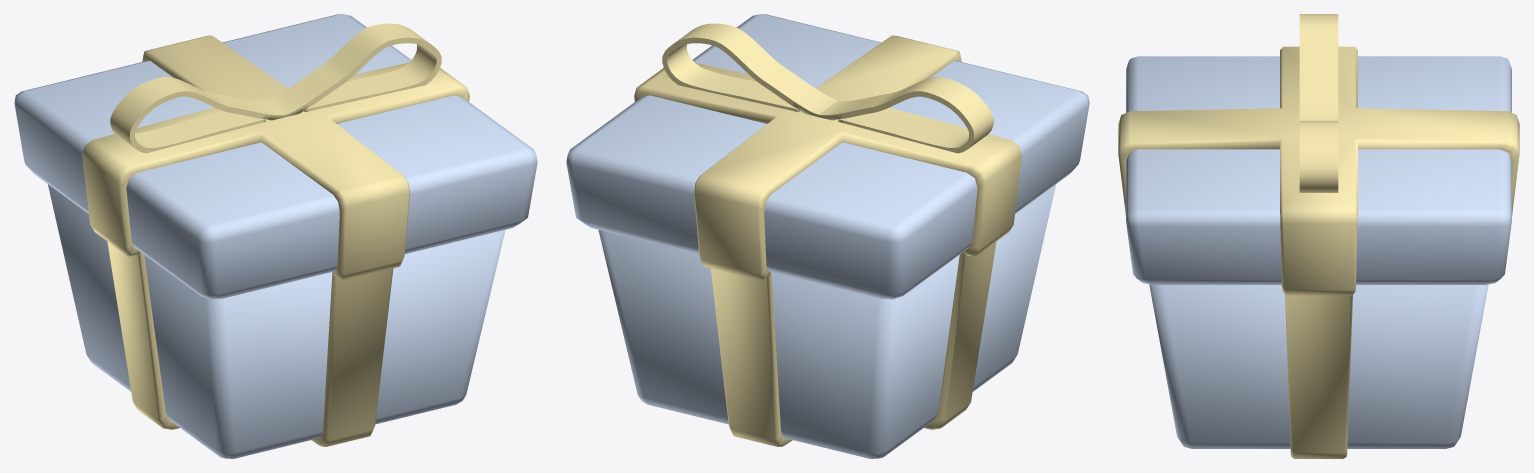
The model's file is WrappedToyTruck.fbx.
3 views of the same model, side by side, from view 1: azimuth 30°, elevation 25°; view 2: azimuth 150°, elevation 25°; view 3: azimuth 270°, elevation 25° (orthographic).
Visible parts, largest first — view 1: Box, Bow; view 2: Box, Bow; view 3: Box, Bow.
Part boxes in pixels (bbox=[...]): Box: bbox=[14, 14, 537, 458]; Bow: bbox=[110, 23, 441, 153]; Box: bbox=[566, 14, 1089, 458]; Bow: bbox=[662, 23, 993, 153]; Box: bbox=[1118, 46, 1519, 458]; Bow: bbox=[1299, 14, 1338, 192].
Bounding box in the file's own units: 53.9 × 49.12 × 53.9.
